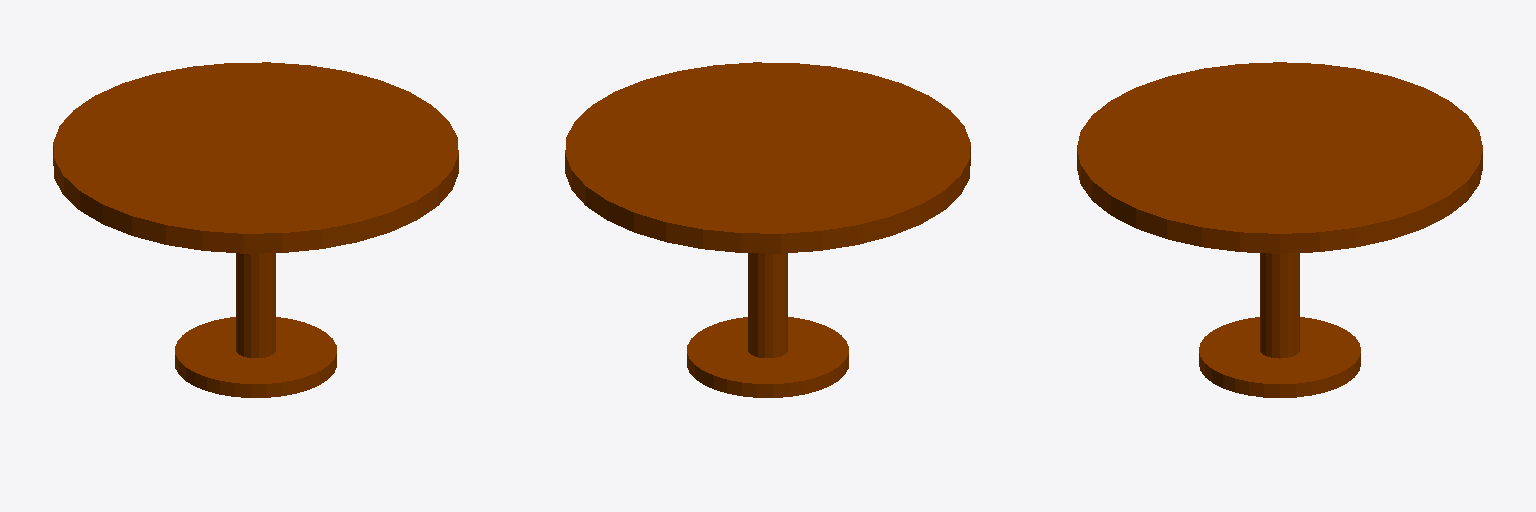
Rendered from roundtable.obj.
3 renders of one model, left to right at view 1: azimuth 30°, elevation 25°; view 2: azimuth 150°, elevation 25°; view 3: azimuth 270°, elevation 25°, orthographic.
Parts seen in each view (by area): view 1: Plateau_1, Socle_3, Pied_2; view 2: Plateau_1, Socle_3, Pied_2; view 3: Plateau_1, Socle_3, Pied_2.
Part boxes in pixels (left/top/right/bottom): Plateau_1: left=53, top=62, right=458, bottom=253; Socle_3: left=175, top=317, right=336, bottom=397; Pied_2: left=236, top=253, right=275, bottom=357; Plateau_1: left=565, top=62, right=970, bottom=253; Socle_3: left=687, top=317, right=848, bottom=397; Pied_2: left=748, top=253, right=787, bottom=357; Plateau_1: left=1077, top=62, right=1482, bottom=253; Socle_3: left=1199, top=317, right=1360, bottom=397; Pied_2: left=1260, top=253, right=1299, bottom=358.
Size of the model in its own units: 126 by 73.66 by 126.